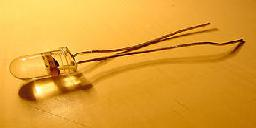LED: (6, 46, 111, 85)
